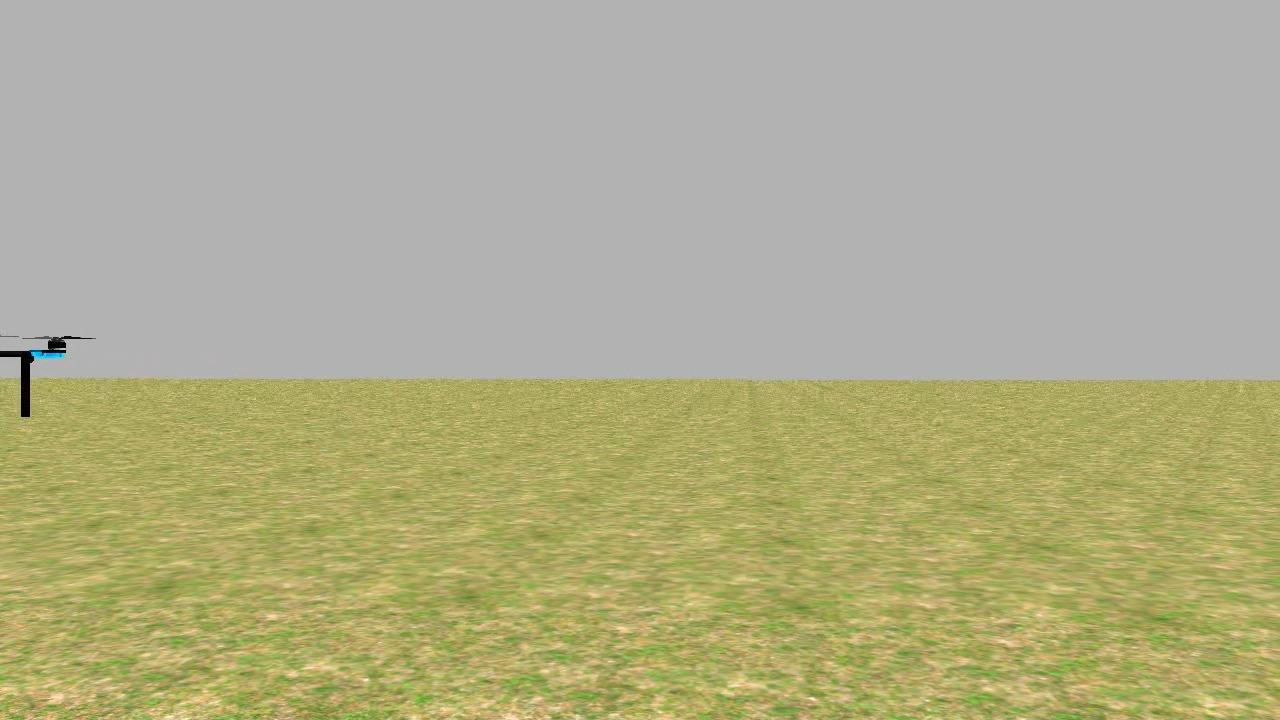UAV: (0, 308, 76, 435)
